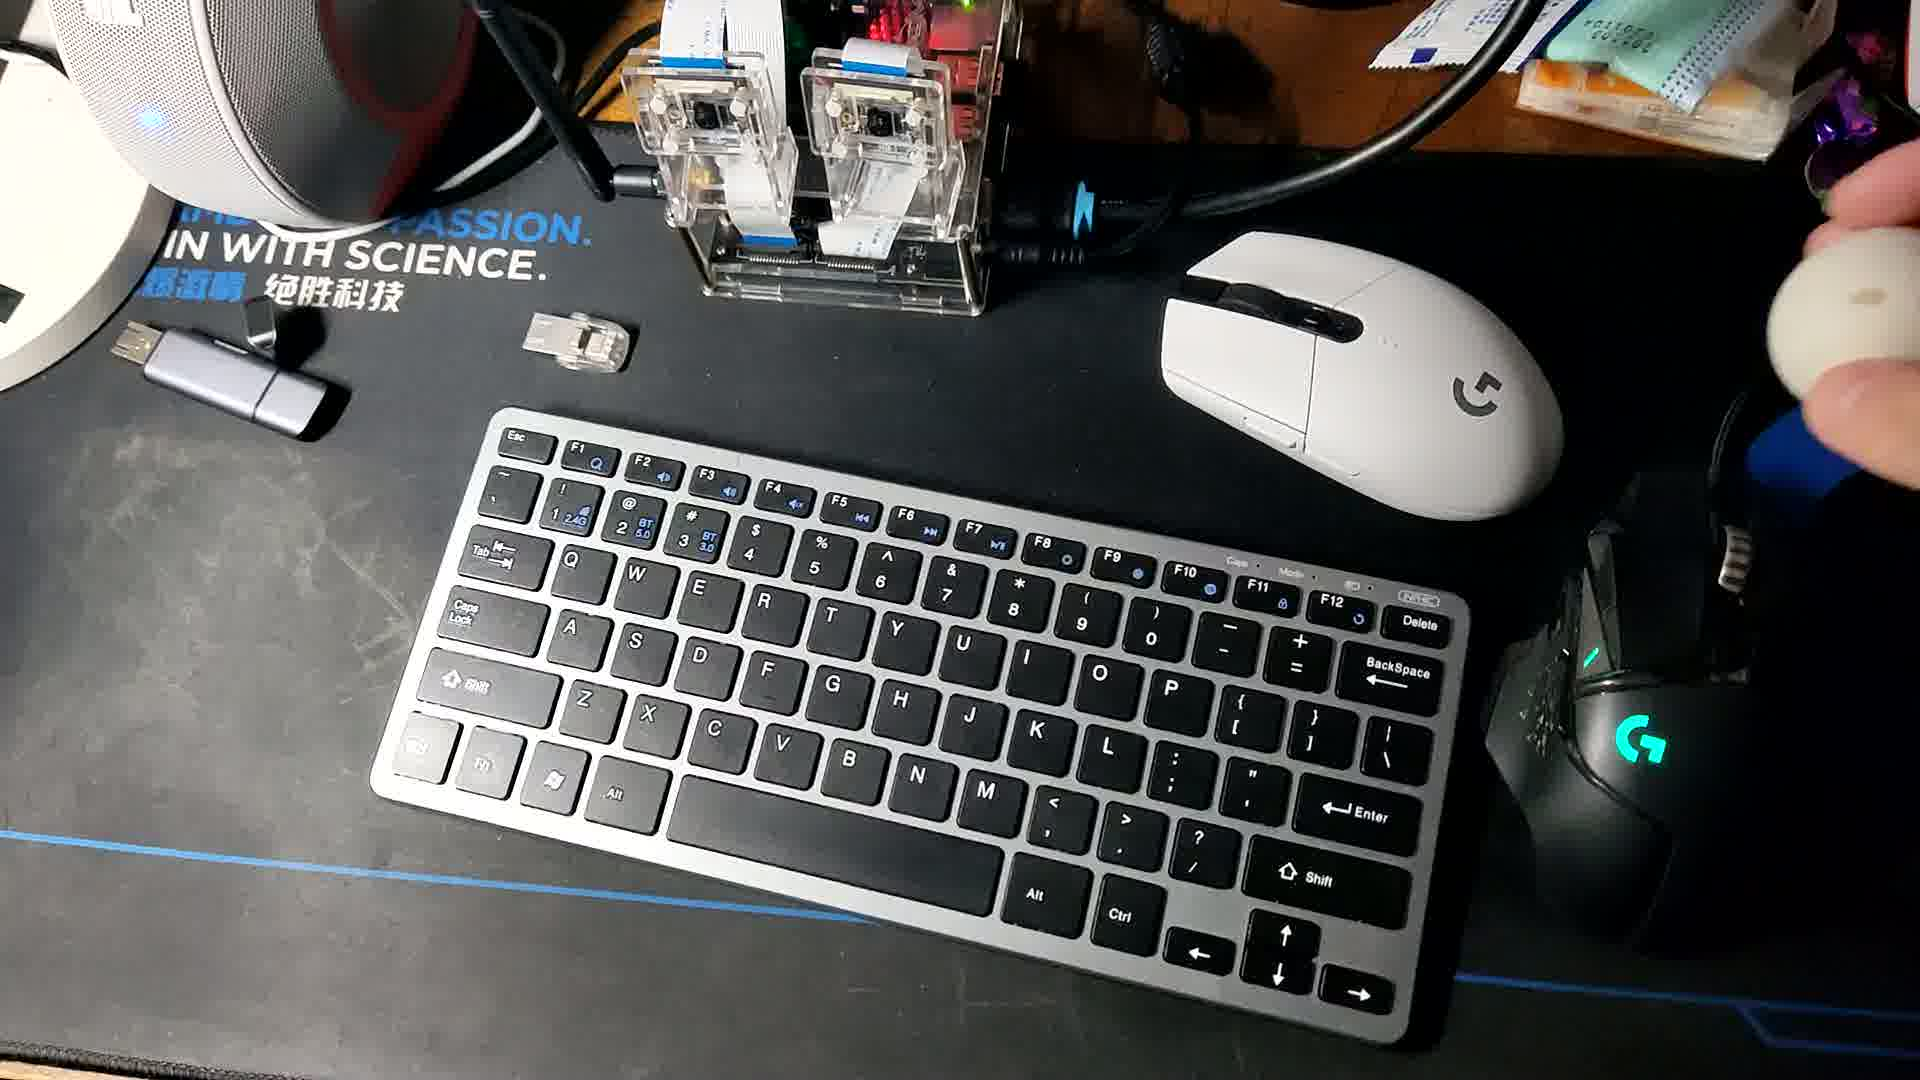Ball: (1758, 225, 1920, 444)
